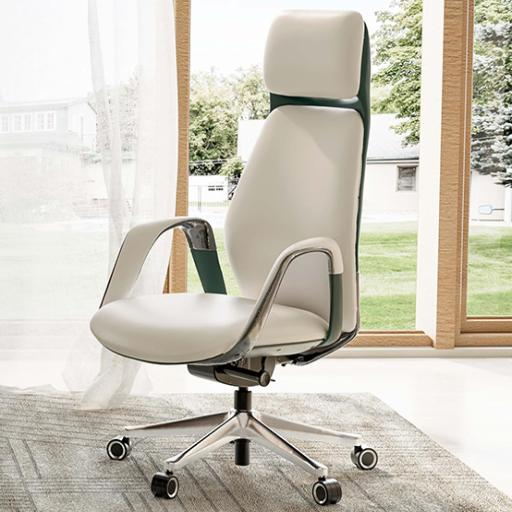chair: (88, 12, 414, 512)
